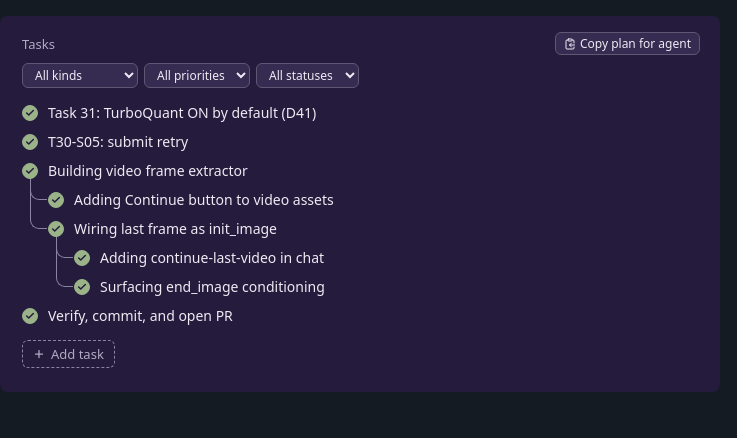
Scenario: add task creates a new editable top-level task
Click the button "Add task": click(68, 354) x1=22 y1=340 x2=115 y2=368
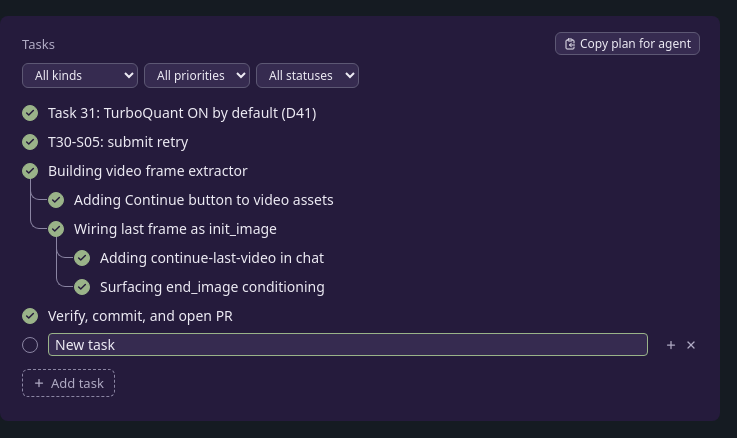
Replace the text in the field showing "New task" with "My brand new task": (348, 344) x1=48 y1=333 x2=648 y2=356
Then press Enter
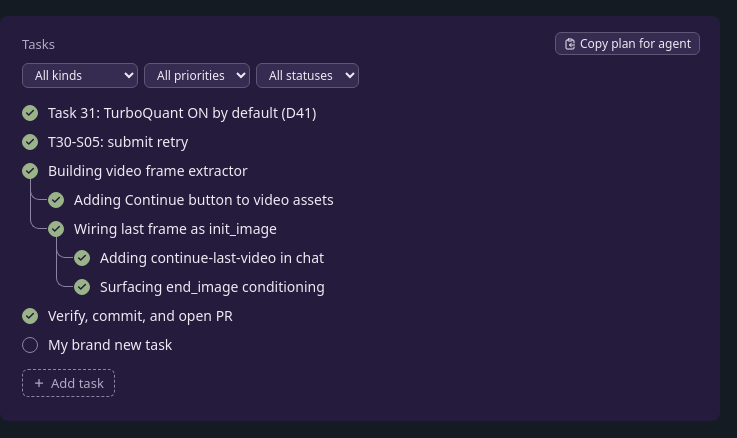
Expected: the text "My brand new task" is shown, x1=48 y1=335 x2=172 y2=354
